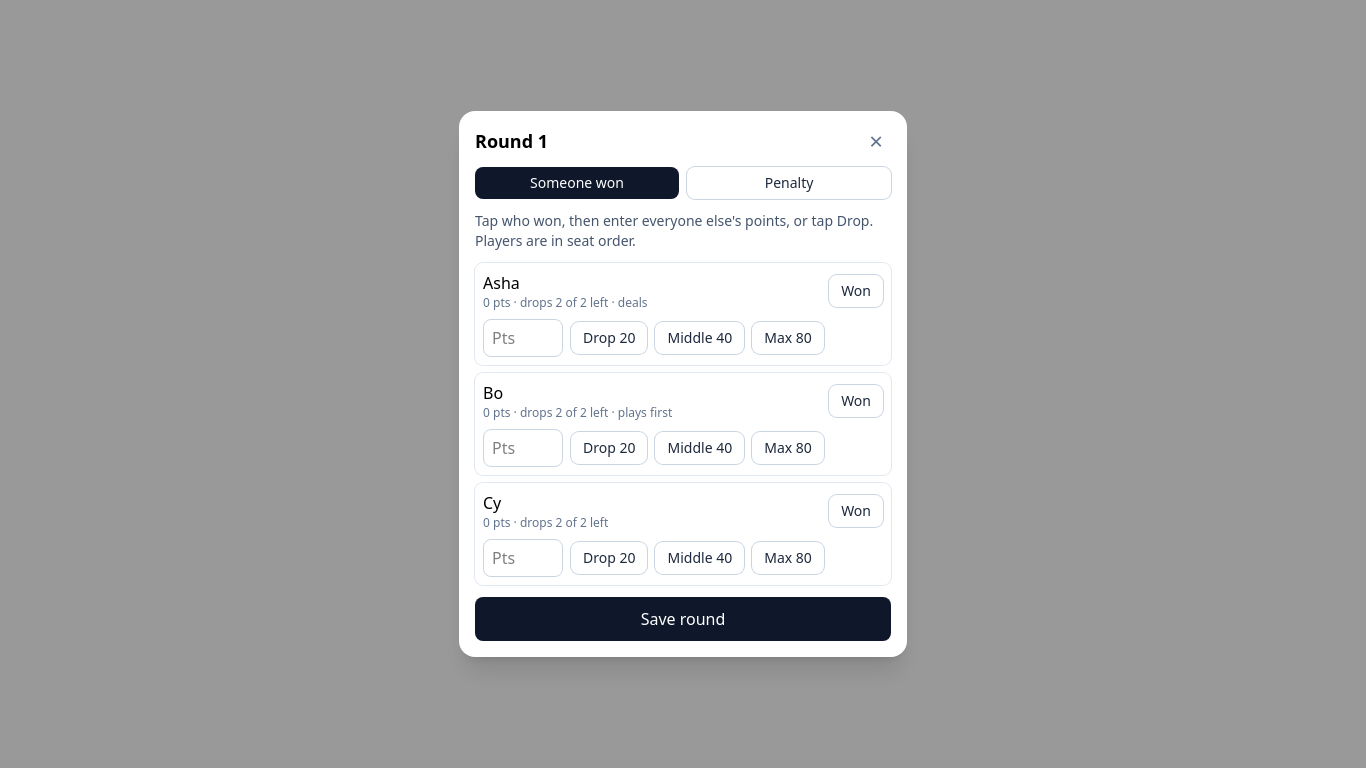
choosing a penalty round › shows the reason, the penalty points starting at the most, and who got it
The width and height of the screenshot is (1366, 768).
Click the radio button labelled "Penalty" at (789, 183), box [687,167,891,199]
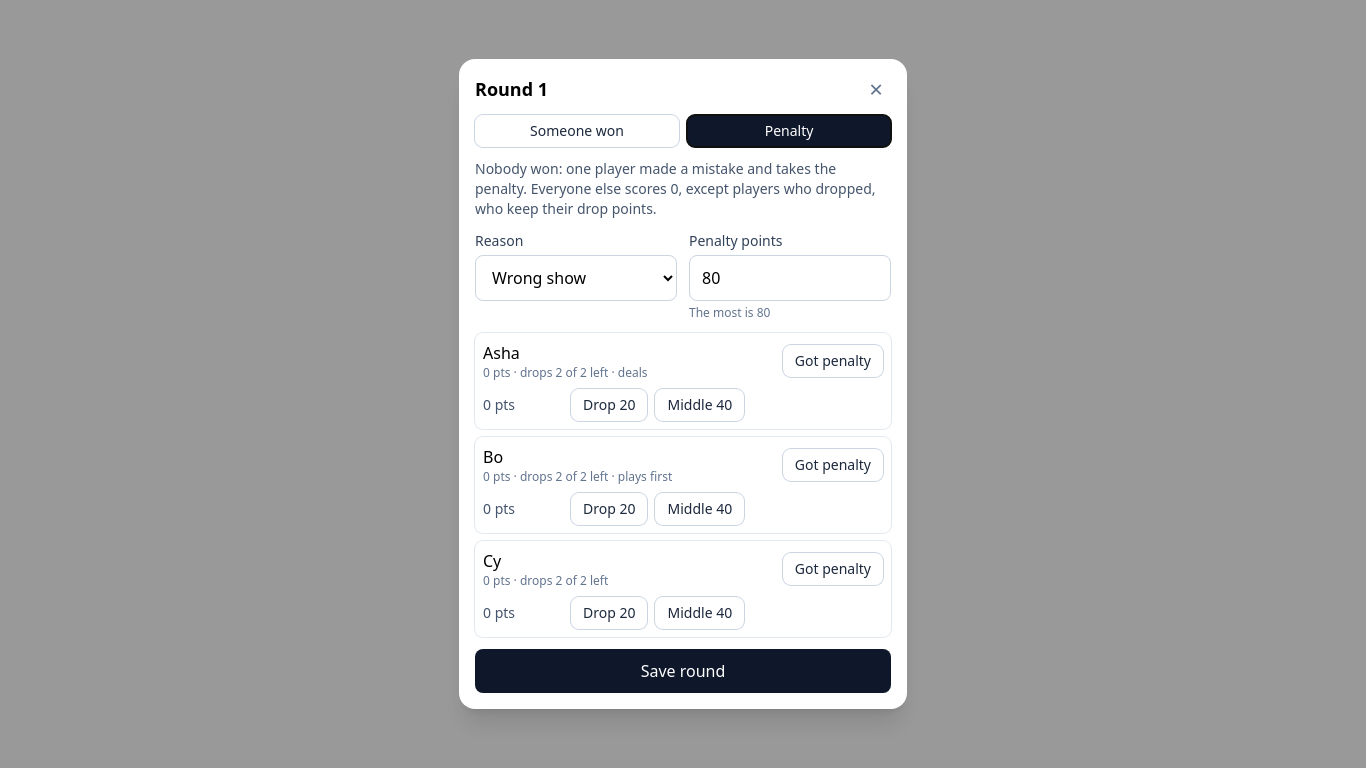
Expected: the radio button labelled "Penalty" is checked, [687,115,891,147]
Expected: the field labelled "Penalty points The most is 80" holds "80", [689,255,891,301]
Expected: the text "The most is 80" is shown, [689,304,770,321]
